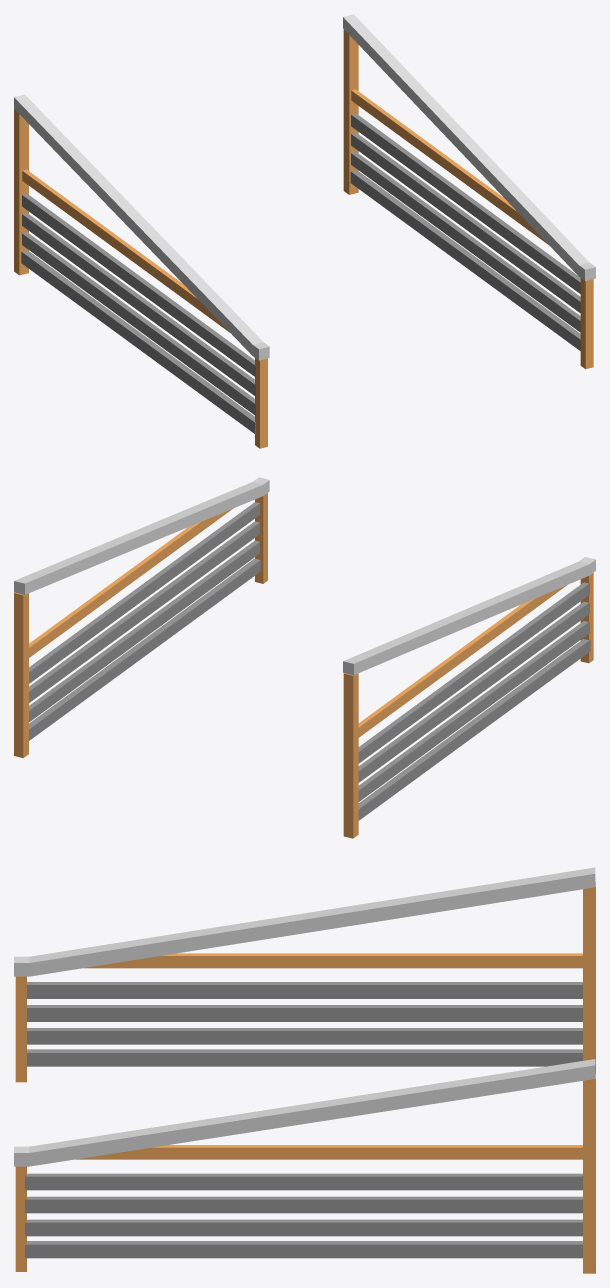
Rendered from Fream.fbx.
3 renders of one model, top to bottom at view 1: azimuth 30°, elevation 25°; view 2: azimuth 150°, elevation 25°; view 3: azimuth 270°, elevation 25°, orthographic. The views are drawn at different scales.
Parts seen in each view (by area): view 1: 立方体.003, 立方体, 立方体.005, 立方体.006, 立方体.004, 立方体.009, 立方体.001, 立方体.002; view 2: 立方体.003, 立方体, 立方体.005, 立方体.004, 立方体.006, 立方体.009, 立方体.001, 立方体.002; view 3: 立方体.003, 立方体, 立方体.004, 立方体.005, 立方体.006, 立方体.009, 立方体.001, 立方体.002.
Boxes of the visible parts, x1,y1,x2,y2 form: 立方体.003: (14, 14, 595, 360); 立方体: (21, 170, 580, 434); 立方体.005: (22, 132, 580, 396); 立方体.006: (22, 113, 580, 377); 立方体.004: (22, 152, 580, 415); 立方体.009: (22, 89, 548, 332); 立方体.001: (14, 29, 358, 275); 立方体.002: (255, 278, 593, 448); 立方体.003: (14, 477, 595, 675); 立方体: (29, 558, 590, 820); 立方体.005: (29, 521, 589, 782); 立方体.004: (29, 540, 589, 801); 立方体.006: (29, 502, 589, 763); 立方体.009: (29, 508, 566, 737); 立方体.001: (14, 592, 358, 838); 立方体.002: (255, 493, 593, 663); 立方体.003: (14, 867, 595, 1166); 立方体: (25, 1049, 582, 1258); 立方体.004: (25, 1028, 582, 1236); 立方体.005: (25, 1005, 582, 1213); 立方体.006: (25, 982, 582, 1190); 立方体.009: (75, 953, 582, 1159); 立方体.001: (583, 881, 595, 1273); 立方体.002: (15, 976, 26, 1271).
Bounding box in the file's own units: 2423 × 1190 × 3011.
Materials: 8 (8 with a texture image).
